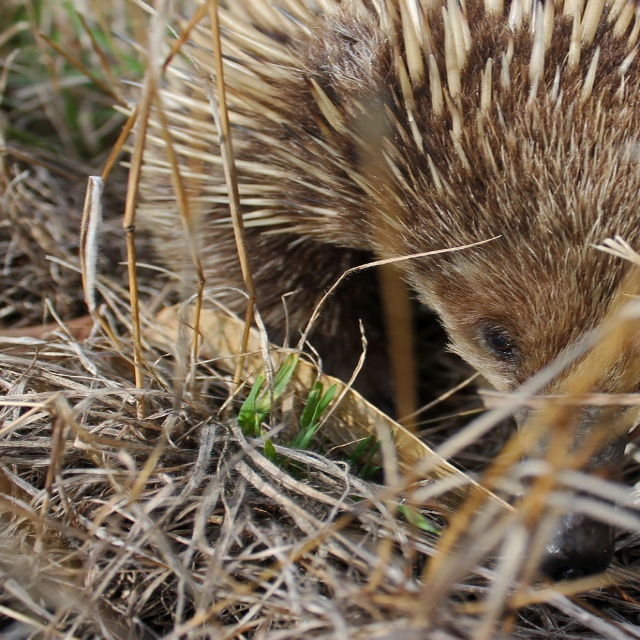Hedgehog: (113, 0, 640, 583)
